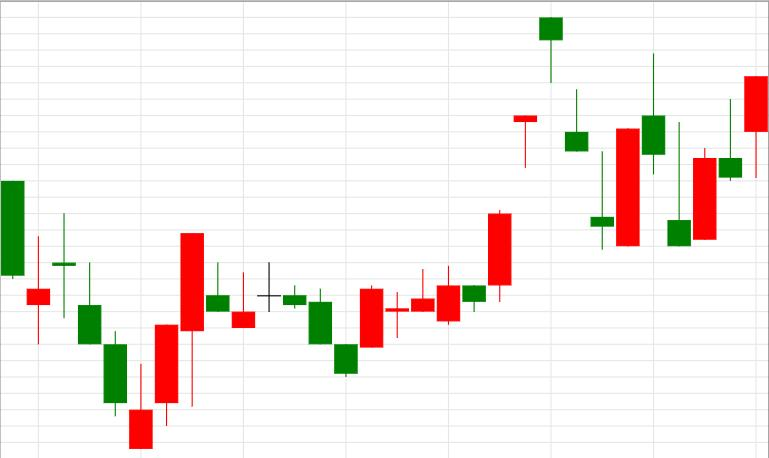three_white_soldiers_rise: (52, 213, 204, 449)
